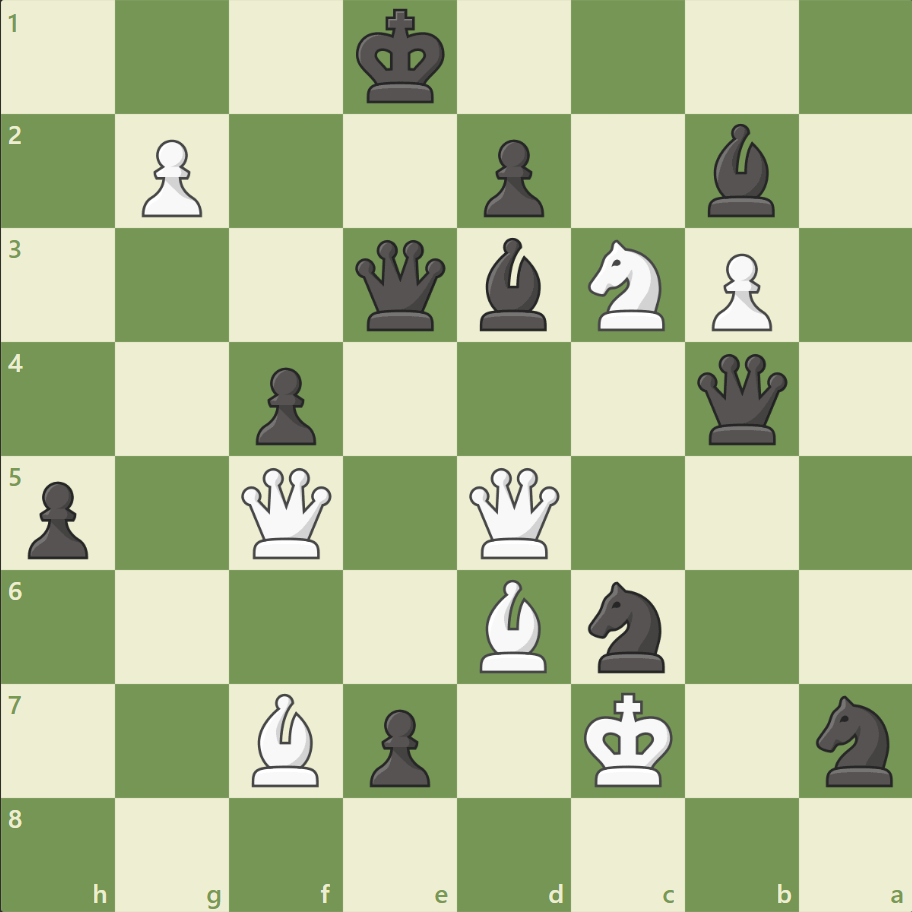B: (244, 687, 328, 790), (471, 574, 555, 676)
K: (579, 685, 679, 793)
N: (579, 234, 676, 337)
P: (701, 246, 776, 337), (133, 132, 208, 223)
Q: (464, 463, 563, 562), (237, 463, 336, 562)
b: (471, 233, 555, 336), (698, 120, 782, 222)
k: (351, 4, 451, 112)
n: (806, 688, 903, 791), (579, 575, 676, 677)
p: (20, 473, 95, 564), (247, 359, 322, 450), (474, 132, 549, 223), (361, 700, 435, 791)
q: (691, 349, 790, 449), (351, 236, 450, 335)
